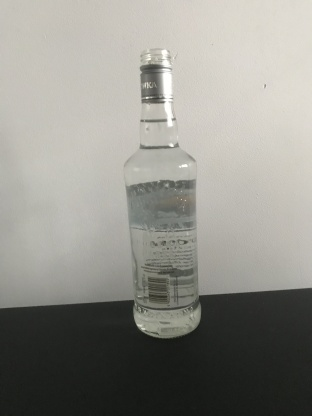nakretka: (138, 45, 175, 105)
